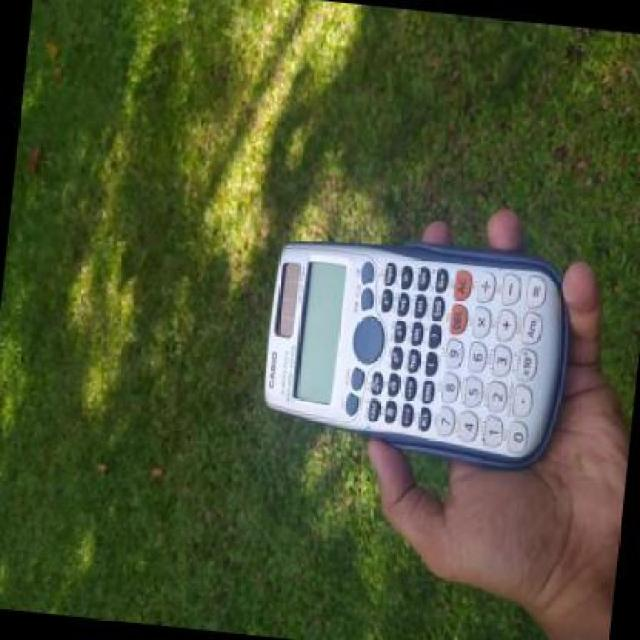Calculator: (250, 213, 579, 469)
